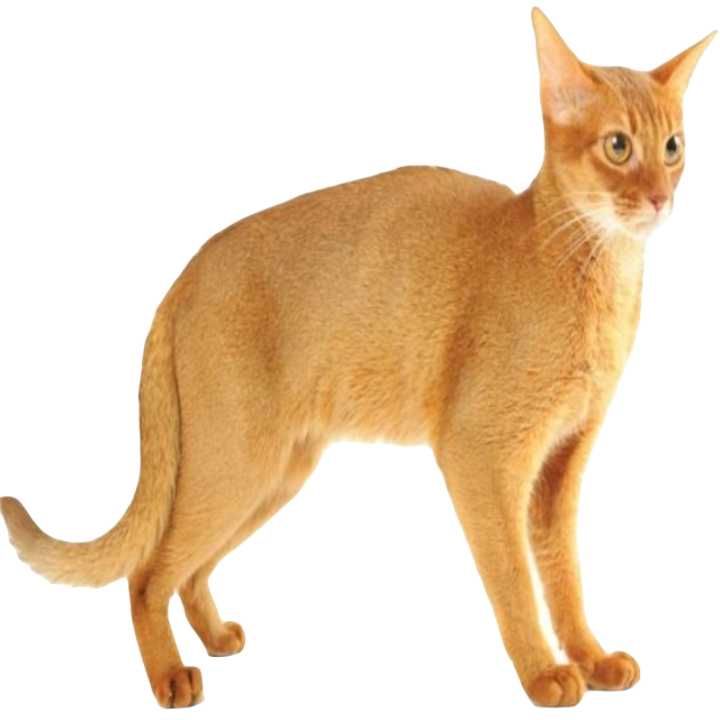Cat: (0, 9, 706, 719)
